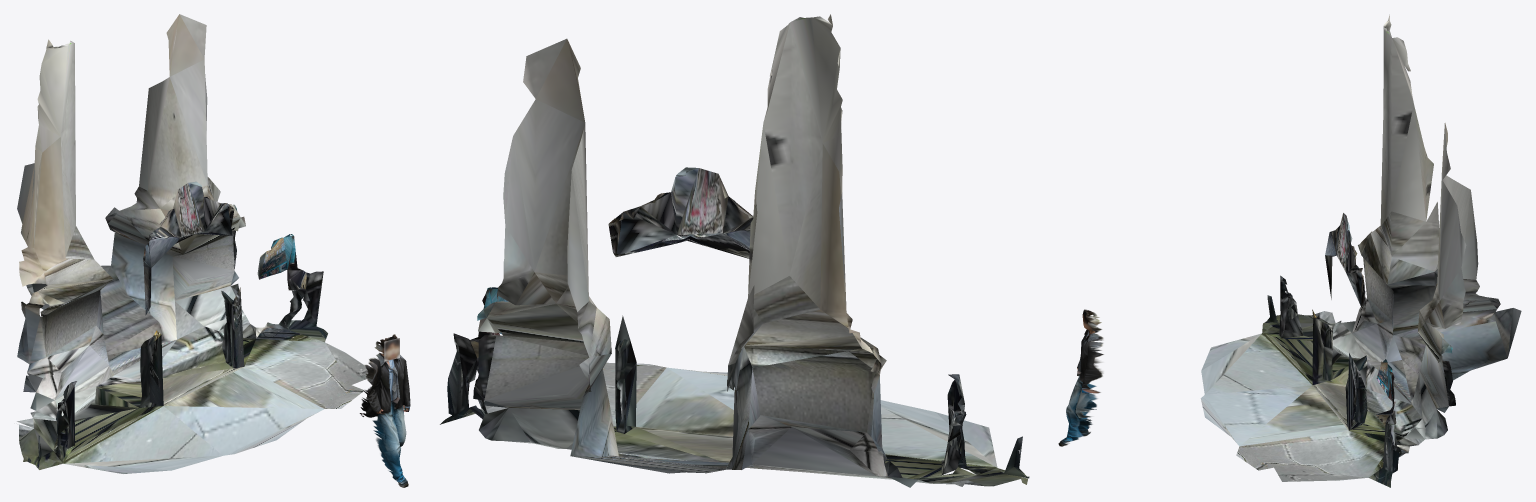
File: distortedRealities01.opt.glb
3 views of the same model, side by side, from view 1: azimuth 30°, elevation 25°; view 2: azimuth 150°, elevation 25°; view 3: azimuth 270°, elevation 25° (orthographic). The views are drawn at different scales.
Visible parts, largest first — view 1: mesh, ImagePlane; view 2: mesh; view 3: mesh, ImagePlane.
Part boxes in pixels (x1,y1,x2,y2): mesh: (17, 14, 367, 473); ImagePlane: (359, 334, 410, 487); mesh: (440, 14, 1029, 487); mesh: (1200, 14, 1521, 487); ImagePlane: (1058, 309, 1103, 446).
Size of the model in its own units: 6.2 by 5.95 by 7.21.
Materials: 3 (3 with a texture image).
